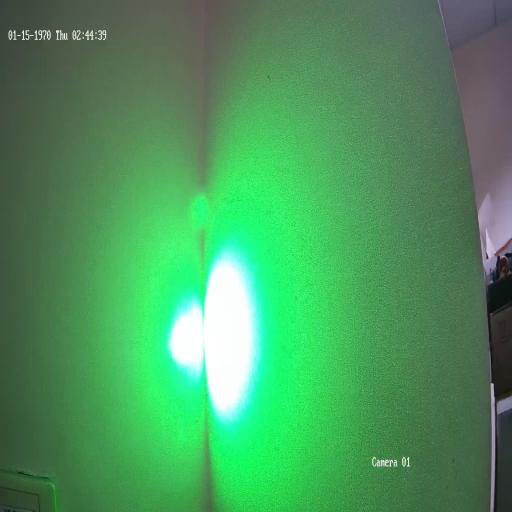laser: (154, 218, 269, 442)
